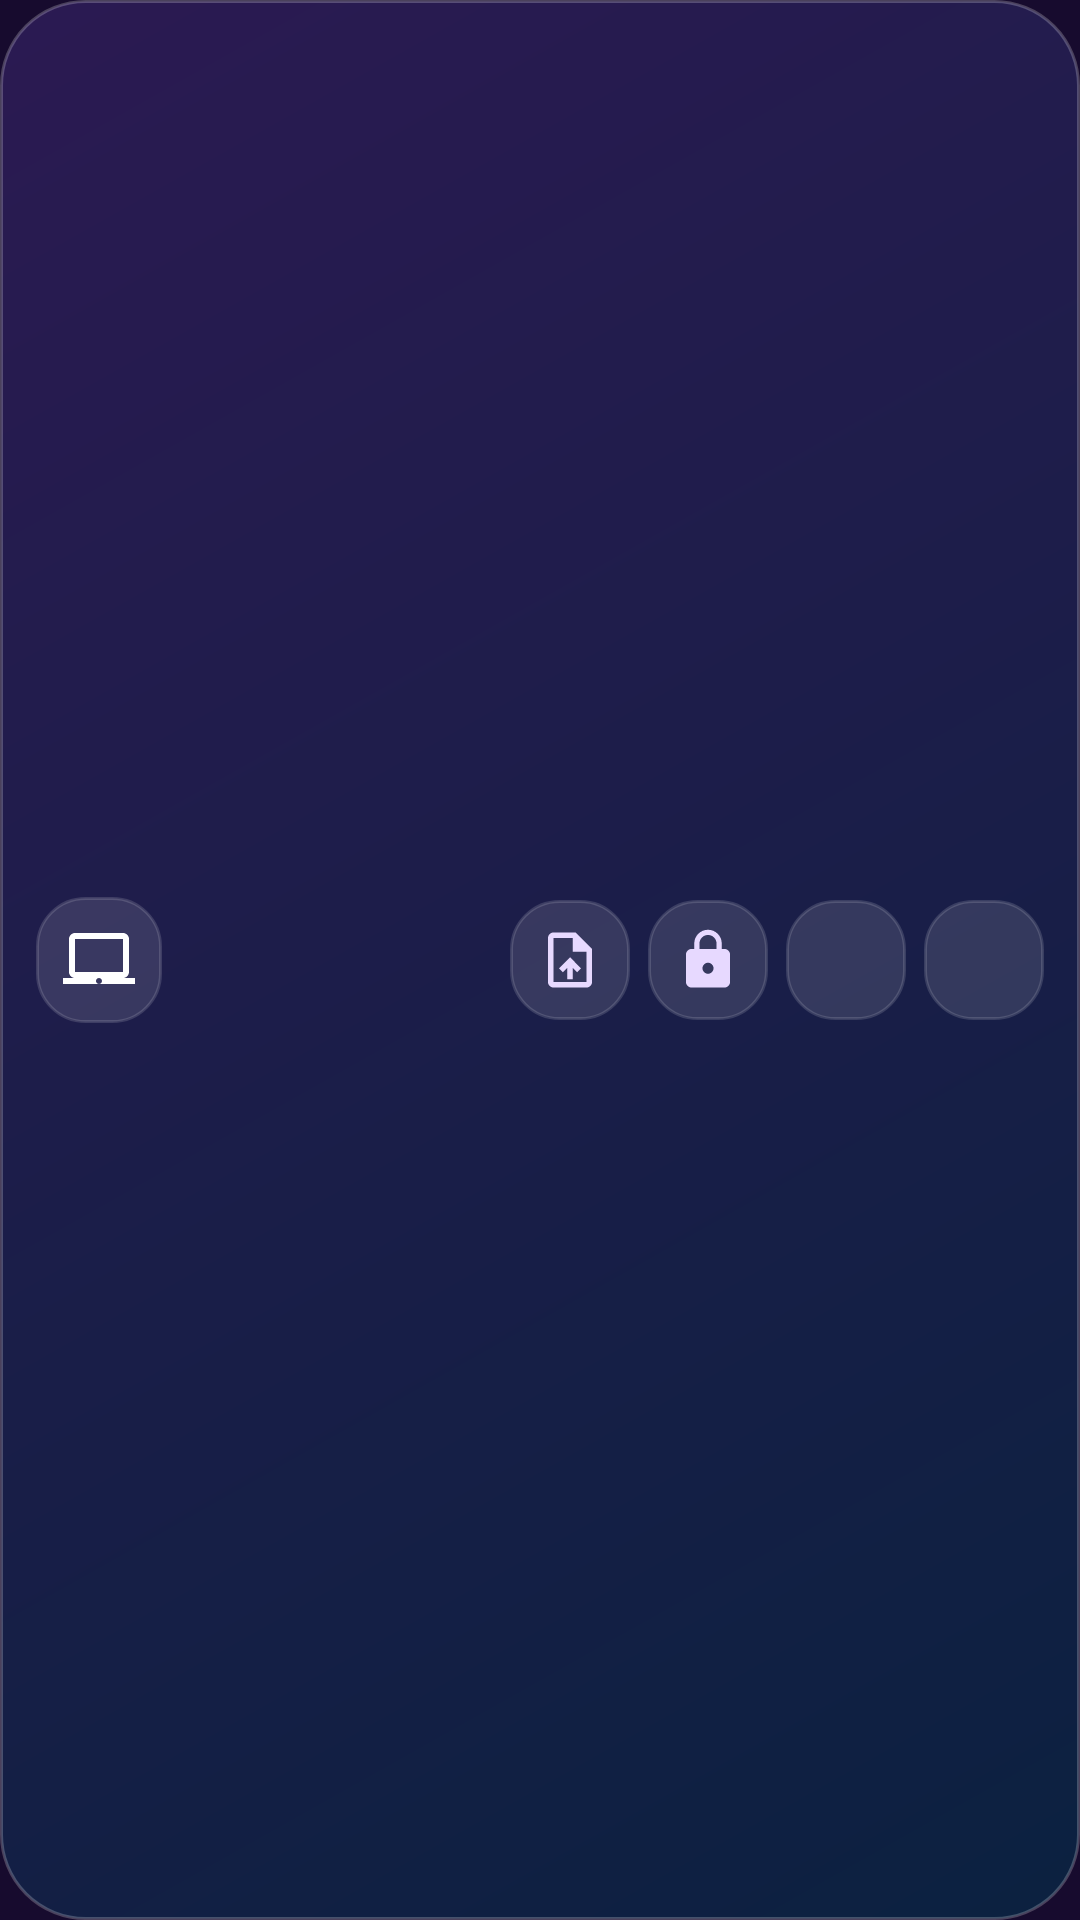

Icons on this 1080 × 1920 Android screen, each with the point to tap as (x=x, y=y):
files: (x=570, y=960)
lock: (x=708, y=960)
widget laptop: (x=99, y=960)
